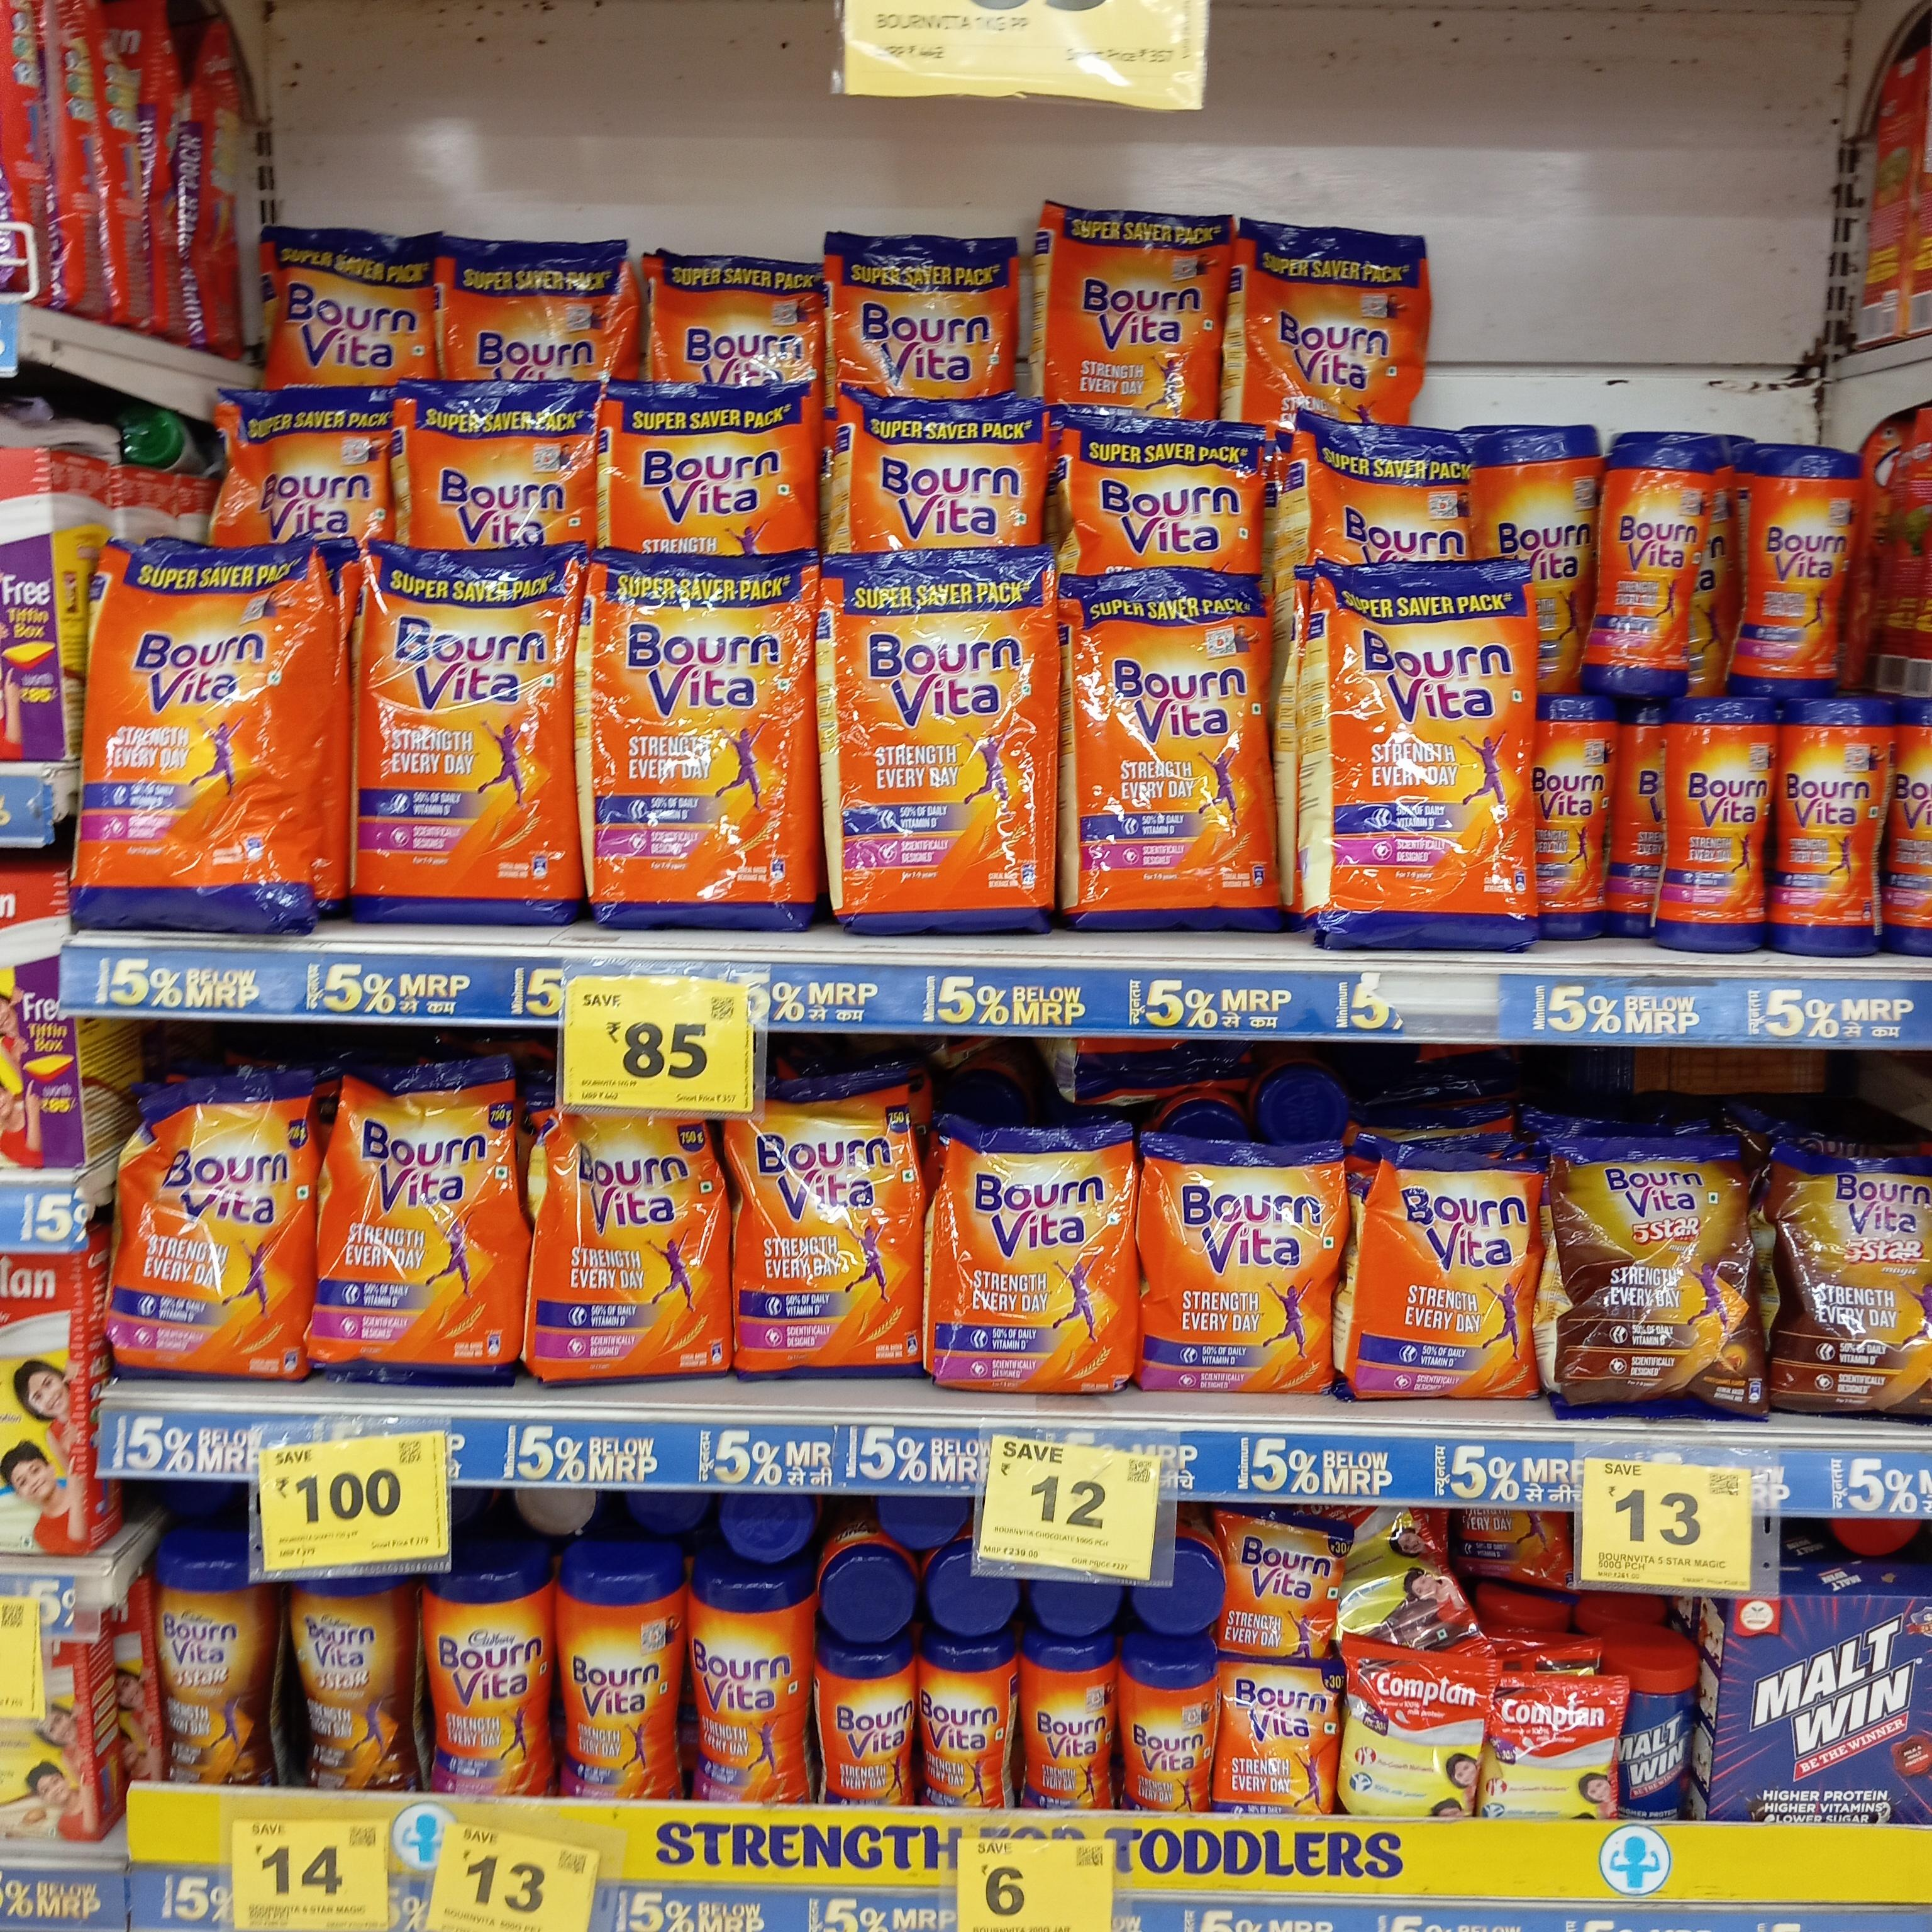BOURN_VITA_1_KG_POUCH: (94, 531, 322, 931), (350, 548, 571, 931), (1330, 566, 1529, 952), (842, 570, 1047, 938), (602, 563, 801, 909), (1077, 593, 1269, 932), (1253, 212, 1426, 428), (1063, 196, 1230, 410), (844, 226, 1016, 400)
BOURN_VITA_200_G_JAR: (1017, 1631, 1113, 1810), (819, 1642, 915, 1813), (1118, 1652, 1214, 1815), (918, 1638, 1001, 1812)
BOURN_VITA_500_G_JAR: (559, 1555, 683, 1803), (426, 1564, 550, 1796), (688, 1575, 809, 1812), (1665, 697, 1769, 961), (1780, 695, 1875, 966), (1606, 437, 1707, 688), (1743, 446, 1845, 692), (1539, 683, 1614, 941)
BOURN_VITA_500_G_POUCH: (1150, 1148, 1334, 1392), (957, 1132, 1132, 1385), (1376, 1164, 1532, 1403)
BOURN_VITA_750_G_POUCH: (324, 1058, 517, 1384), (119, 1074, 310, 1375), (741, 1077, 918, 1382), (540, 1113, 722, 1389)
BOURN_VITA_75_G_POUCH: (1221, 1660, 1338, 1810), (1219, 1514, 1336, 1661)
BOURN_VITA_FIVE_STAR_MAGIC_500_G_JAR: (157, 1546, 283, 1796), (285, 1575, 421, 1790)
BOURN_VITA_FIVE_STAR_MAGIC_500_G_POUCH: (1557, 1145, 1760, 1403), (1775, 1145, 1932, 1412)
